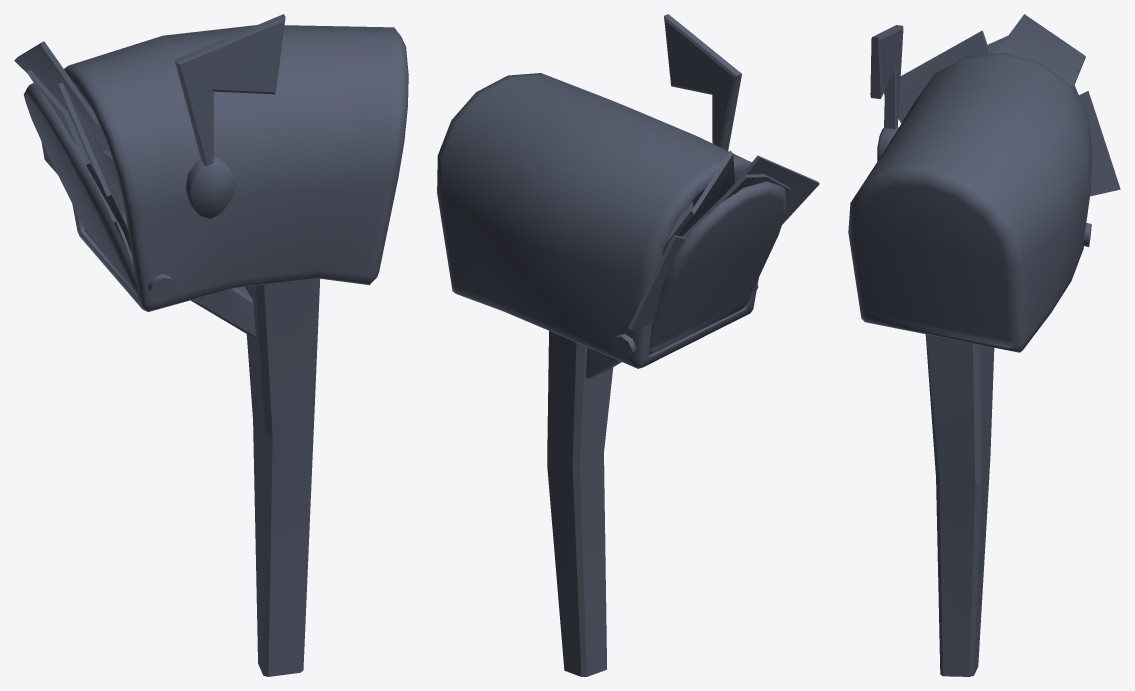
The model's file is Mailbox.FBX.
3 views of the same model, side by side, from view 1: azimuth 30°, elevation 25°; view 2: azimuth 150°, elevation 25°; view 3: azimuth 270°, elevation 25° (orthographic). The views are drawn at different scales.
Parts seen in each view (by area): view 1: Mailbox; view 2: Mailbox; view 3: Mailbox.
Part boxes in pixels (bbox=[...]): Mailbox: bbox=[14, 14, 408, 676]; Mailbox: bbox=[437, 14, 819, 676]; Mailbox: bbox=[848, 14, 1120, 676].
Bounding box in the file's own units: 74.02 × 140 × 56.31.
